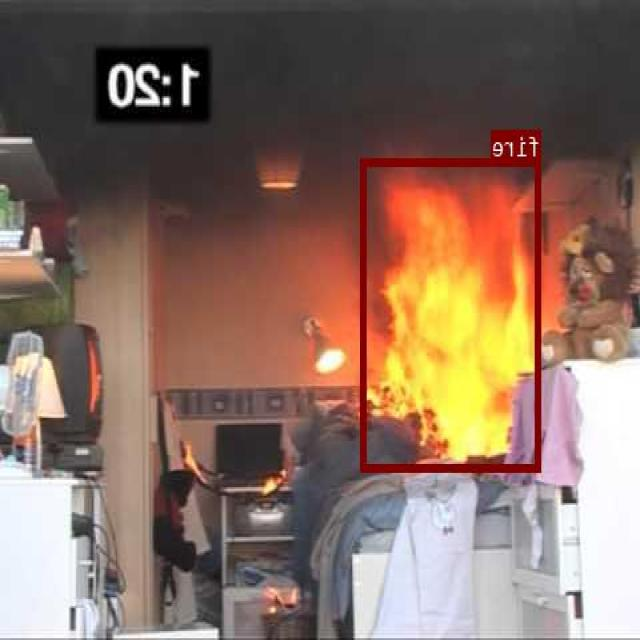fire: (362, 158, 542, 470)
